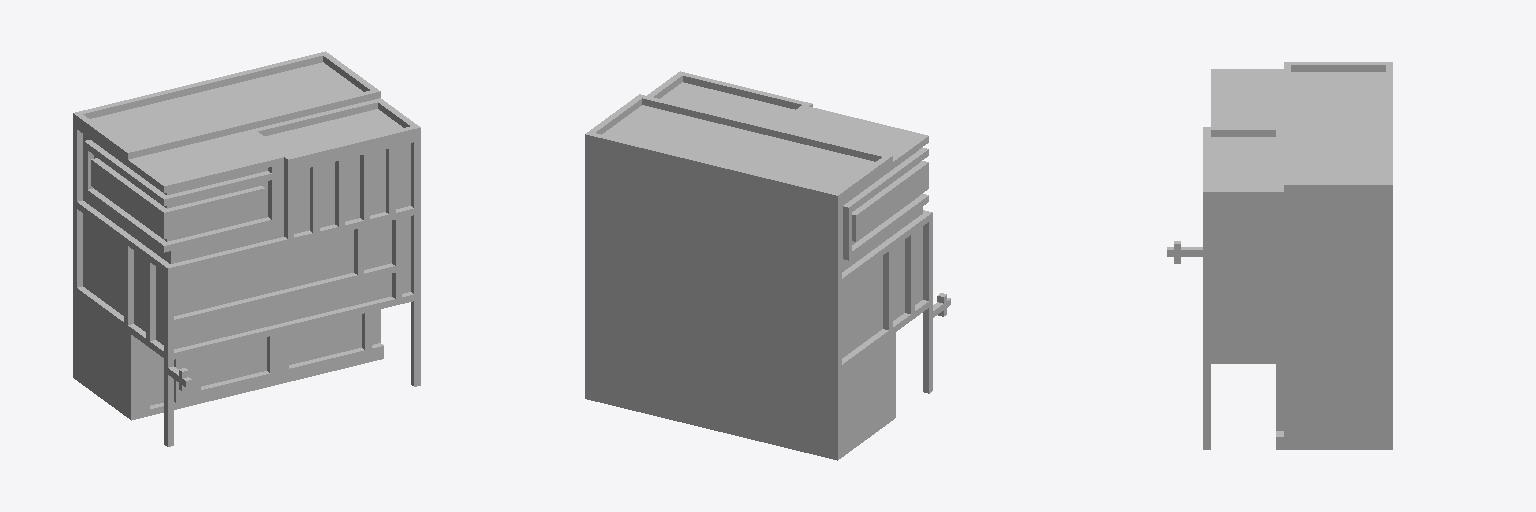
The model's file is Medical.obj.
The picture shows the model from 3 angles: view 1: azimuth 30°, elevation 25°; view 2: azimuth 150°, elevation 25°; view 3: azimuth 270°, elevation 25°; orthographic projection.
Visible parts, largest first — view 1: object 1; view 2: object 1; view 3: object 1.
Part boxes in pixels (bbox=[...]): object 1: bbox=[73, 51, 420, 446]; object 1: bbox=[585, 71, 950, 460]; object 1: bbox=[1167, 62, 1392, 449].
Size of the model in its own units: 4 by 4 by 3.1.